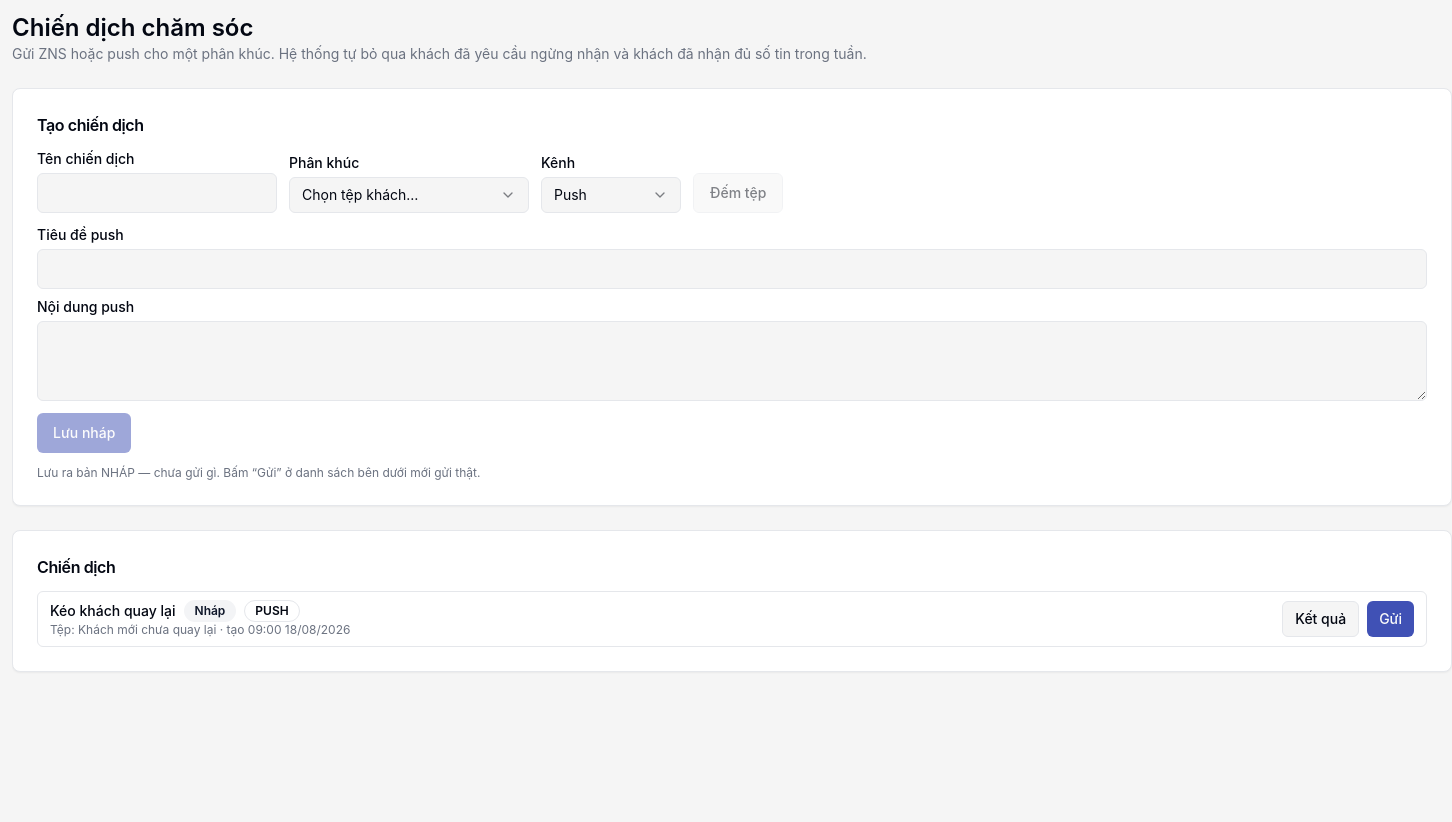
Test: /crm-campaigns — gửi ra ngoài › bấm Gửi mở bước xác nhận, CHƯA gọi API
This screenshot has width=1452, height=822.
Click the button "Gửi": coordinates (1391, 619) x1=1367 y1=601 x2=1414 y2=637
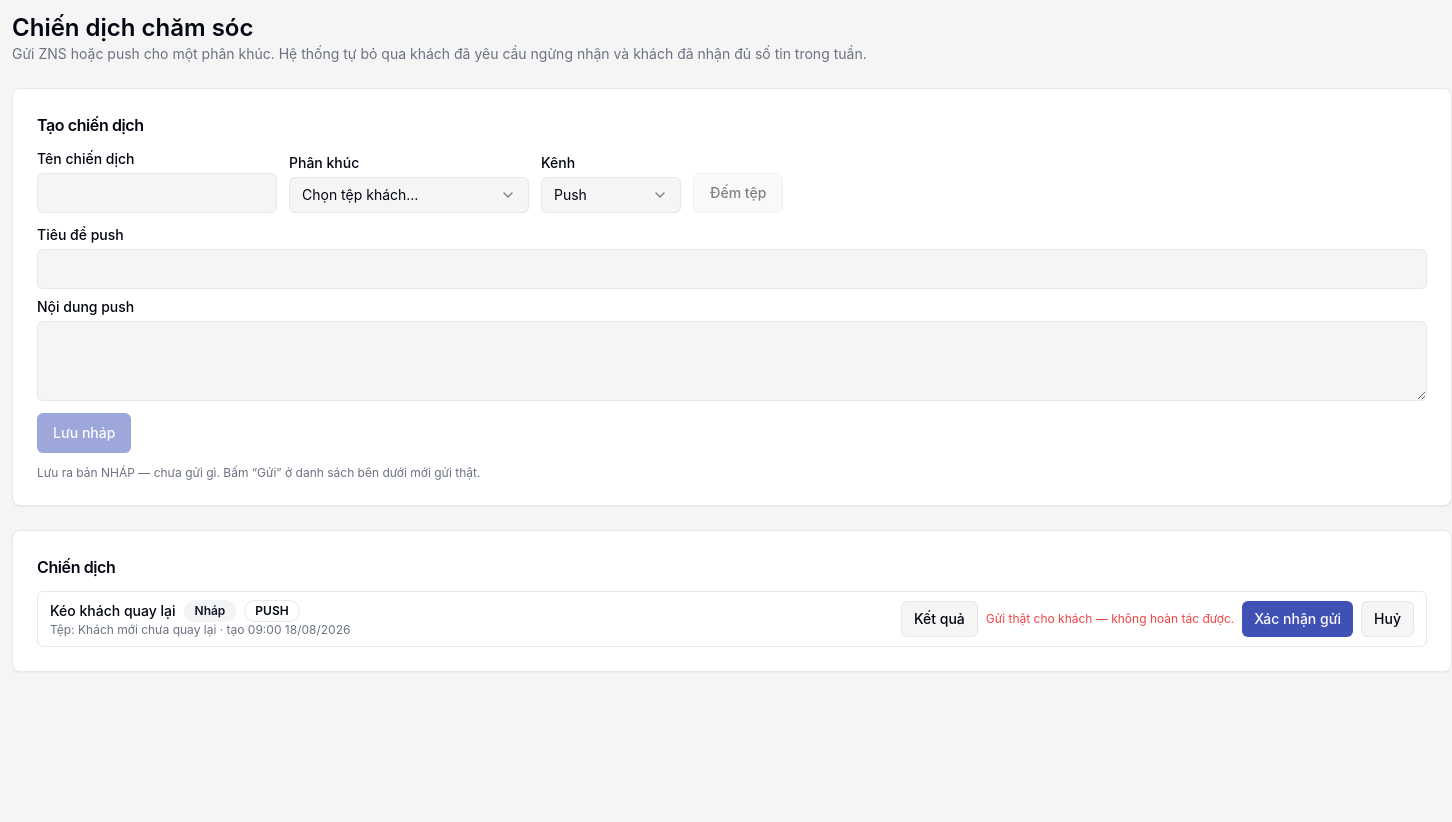
Result: the element with test id "crm-send-confirm" shows "không hoàn tác được" at x1=986 y1=611 x2=1234 y2=626
